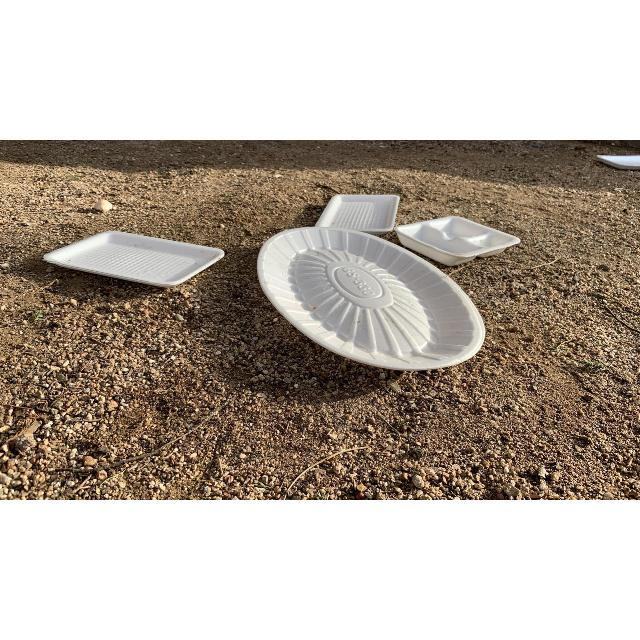Plastico descartable: (256, 227, 486, 372), (41, 231, 224, 290), (388, 216, 520, 269), (317, 194, 399, 233)
